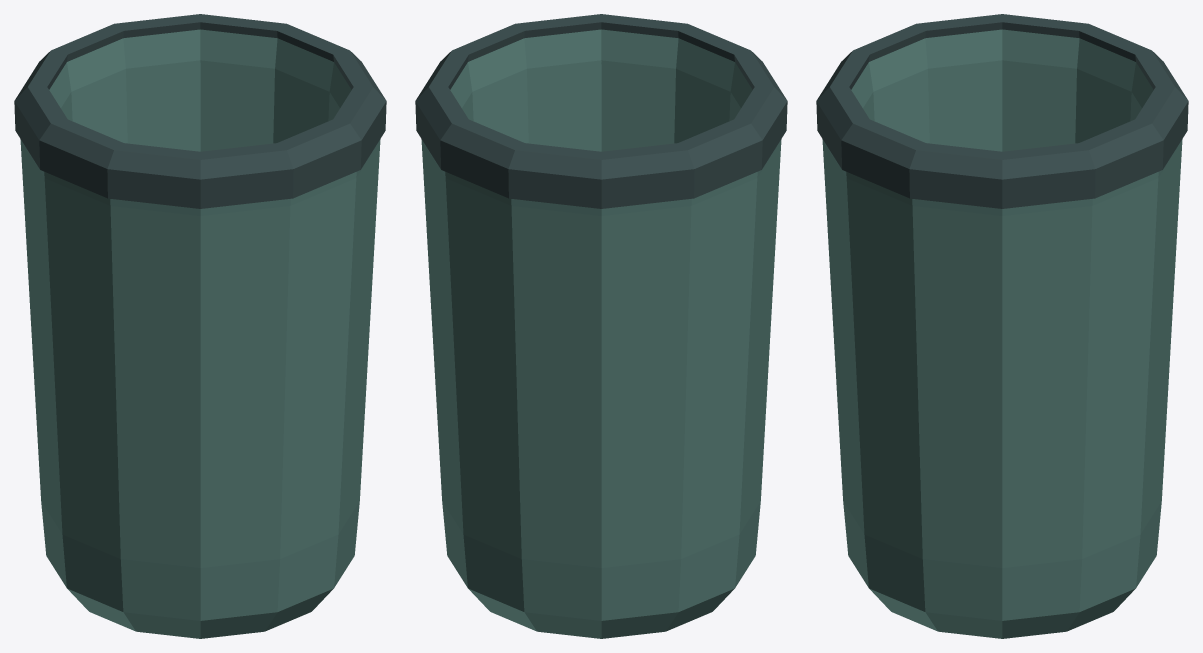
Rendered from Facilities-WasteBin.fbx.
3 views of the same model, side by side, from view 1: azimuth 30°, elevation 25°; view 2: azimuth 150°, elevation 25°; view 3: azimuth 270°, elevation 25° (orthographic).
Visible parts, largest first — view 1: Bin | Open Body, Rim; view 2: Bin | Open Body, Rim; view 3: Bin | Open Body, Rim.
Boxes of the visible parts, x1,y1,x2,y2 form: Bin | Open Body: [20, 29, 380, 638]; Rim: [14, 14, 386, 208]; Bin | Open Body: [421, 29, 781, 638]; Rim: [415, 14, 787, 208]; Bin | Open Body: [822, 29, 1182, 638]; Rim: [816, 14, 1188, 208].
Size of the model in its own units: 0.362 by 0.534 by 0.362.
